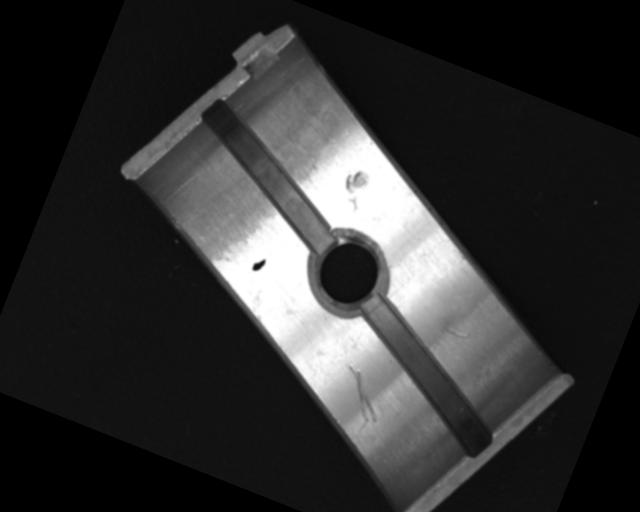blot: (250, 255, 267, 274)
bruise: (335, 164, 372, 214)
gap: (327, 290, 527, 461), (170, 94, 364, 255)
hole: (300, 224, 400, 325)
nick: (331, 362, 394, 427), (441, 323, 471, 342)
